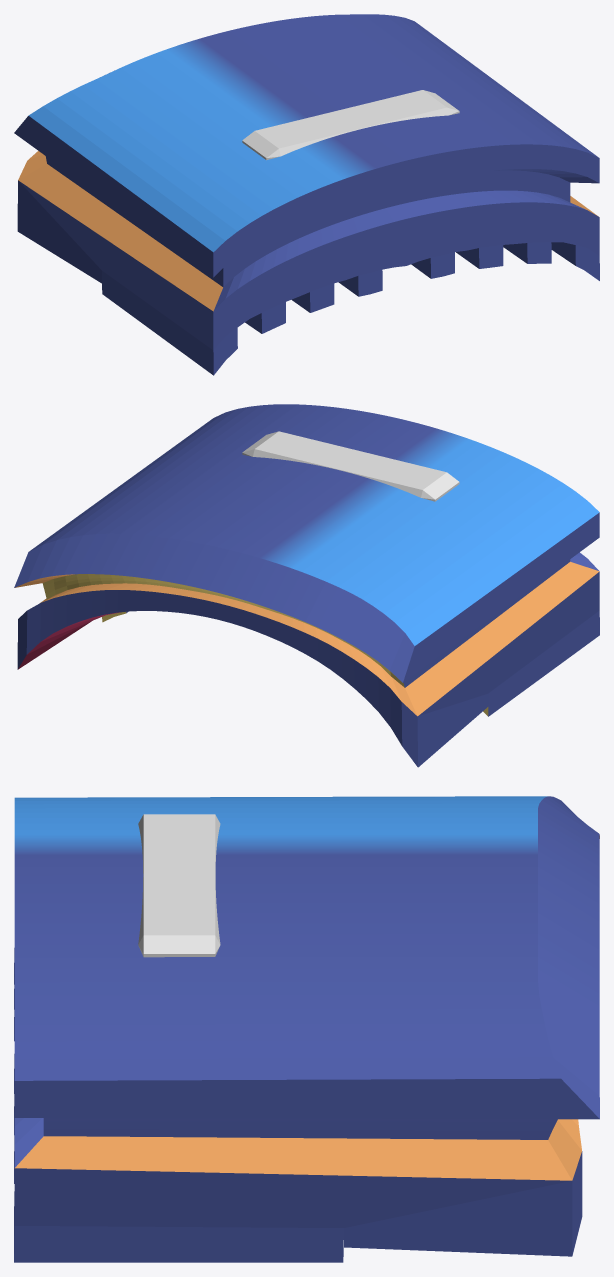
3 views of the same model, one above another, from view 1: azimuth 30°, elevation 25°; view 2: azimuth 150°, elevation 25°; view 3: azimuth 270°, elevation 25° (orthographic). The views are drawn at different scales.
Parts seen in each view (by area): view 1: Paddle, Cube; view 2: Paddle, Cube; view 3: Paddle, Cube.
Part boxes in pixels (<box>): Paddle: <box>14,14,599,375</box>; Cube: <box>242,90,459,160</box>; Paddle: <box>14,404,599,767</box>; Cube: <box>242,431,459,501</box>; Paddle: <box>14,796,599,1262</box>; Cube: <box>138,814,220,957</box>.
Bounding box in the file's own units: 4.15 × 1.67 × 3.56.
